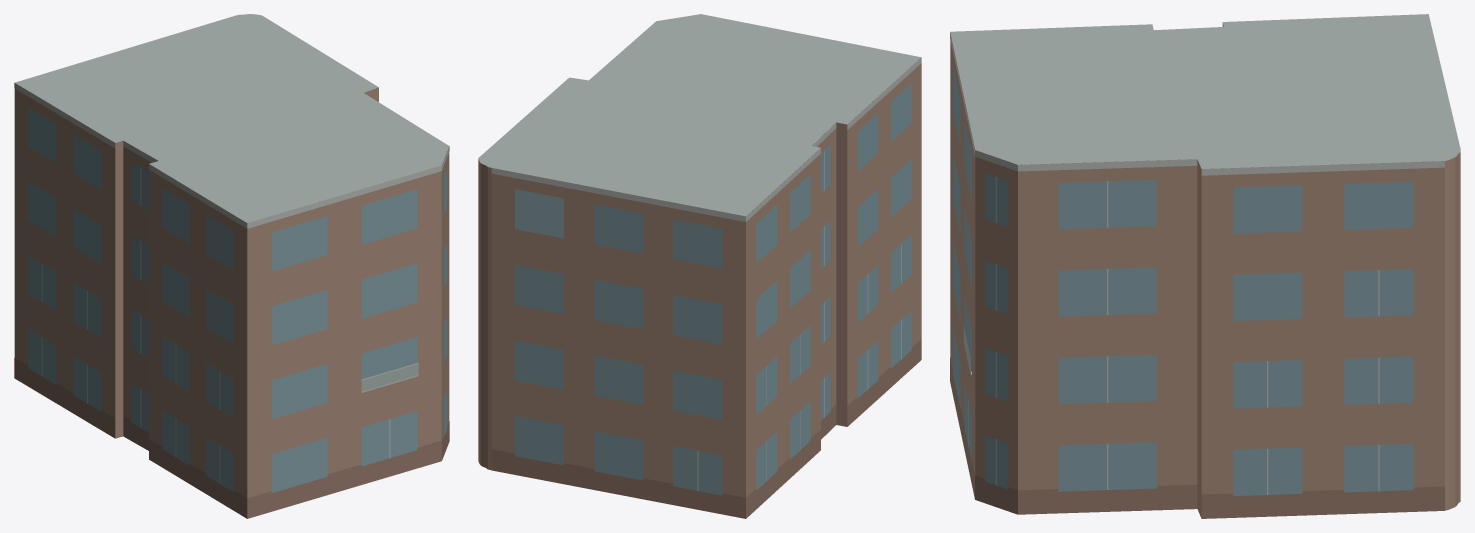
File: survey-upis-32630670.glb
3 renders of one model, left to right at view 1: azimuth 30°, elevation 25°; view 2: azimuth 150°, elevation 25°; view 3: azimuth 270°, elevation 25°, orthographic. The views are drawn at different scales.
Parts seen in each view (by area): view 1: survey-upis-32630670.tmp; view 2: survey-upis-32630670.tmp; view 3: survey-upis-32630670.tmp.
Boxes of the visible parts, box(x1,y1,x2,y2) form: survey-upis-32630670.tmp: box(14, 14, 449, 518); survey-upis-32630670.tmp: box(478, 14, 921, 518); survey-upis-32630670.tmp: box(950, 14, 1460, 518).
Size of the model in its own units: 12.28 by 12.9 by 17.08.
